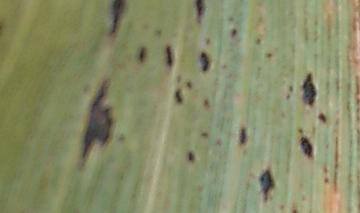tarspot: (82, 82, 111, 158), (260, 169, 275, 201), (303, 73, 316, 105), (112, 1, 123, 35), (300, 136, 312, 159), (199, 51, 210, 71), (196, 1, 205, 23), (239, 125, 247, 146), (165, 46, 173, 66), (138, 47, 147, 63), (174, 89, 183, 103), (317, 112, 326, 123), (176, 74, 183, 85), (117, 133, 125, 142), (154, 28, 162, 37), (204, 36, 211, 46), (188, 151, 194, 162), (200, 130, 208, 138), (185, 80, 192, 89), (203, 99, 210, 108), (297, 126, 304, 135), (215, 138, 222, 147), (231, 27, 237, 37), (255, 37, 262, 45), (324, 176, 330, 184), (288, 84, 294, 91), (286, 93, 291, 101), (228, 17, 234, 23), (267, 52, 272, 59), (291, 208, 297, 213)
